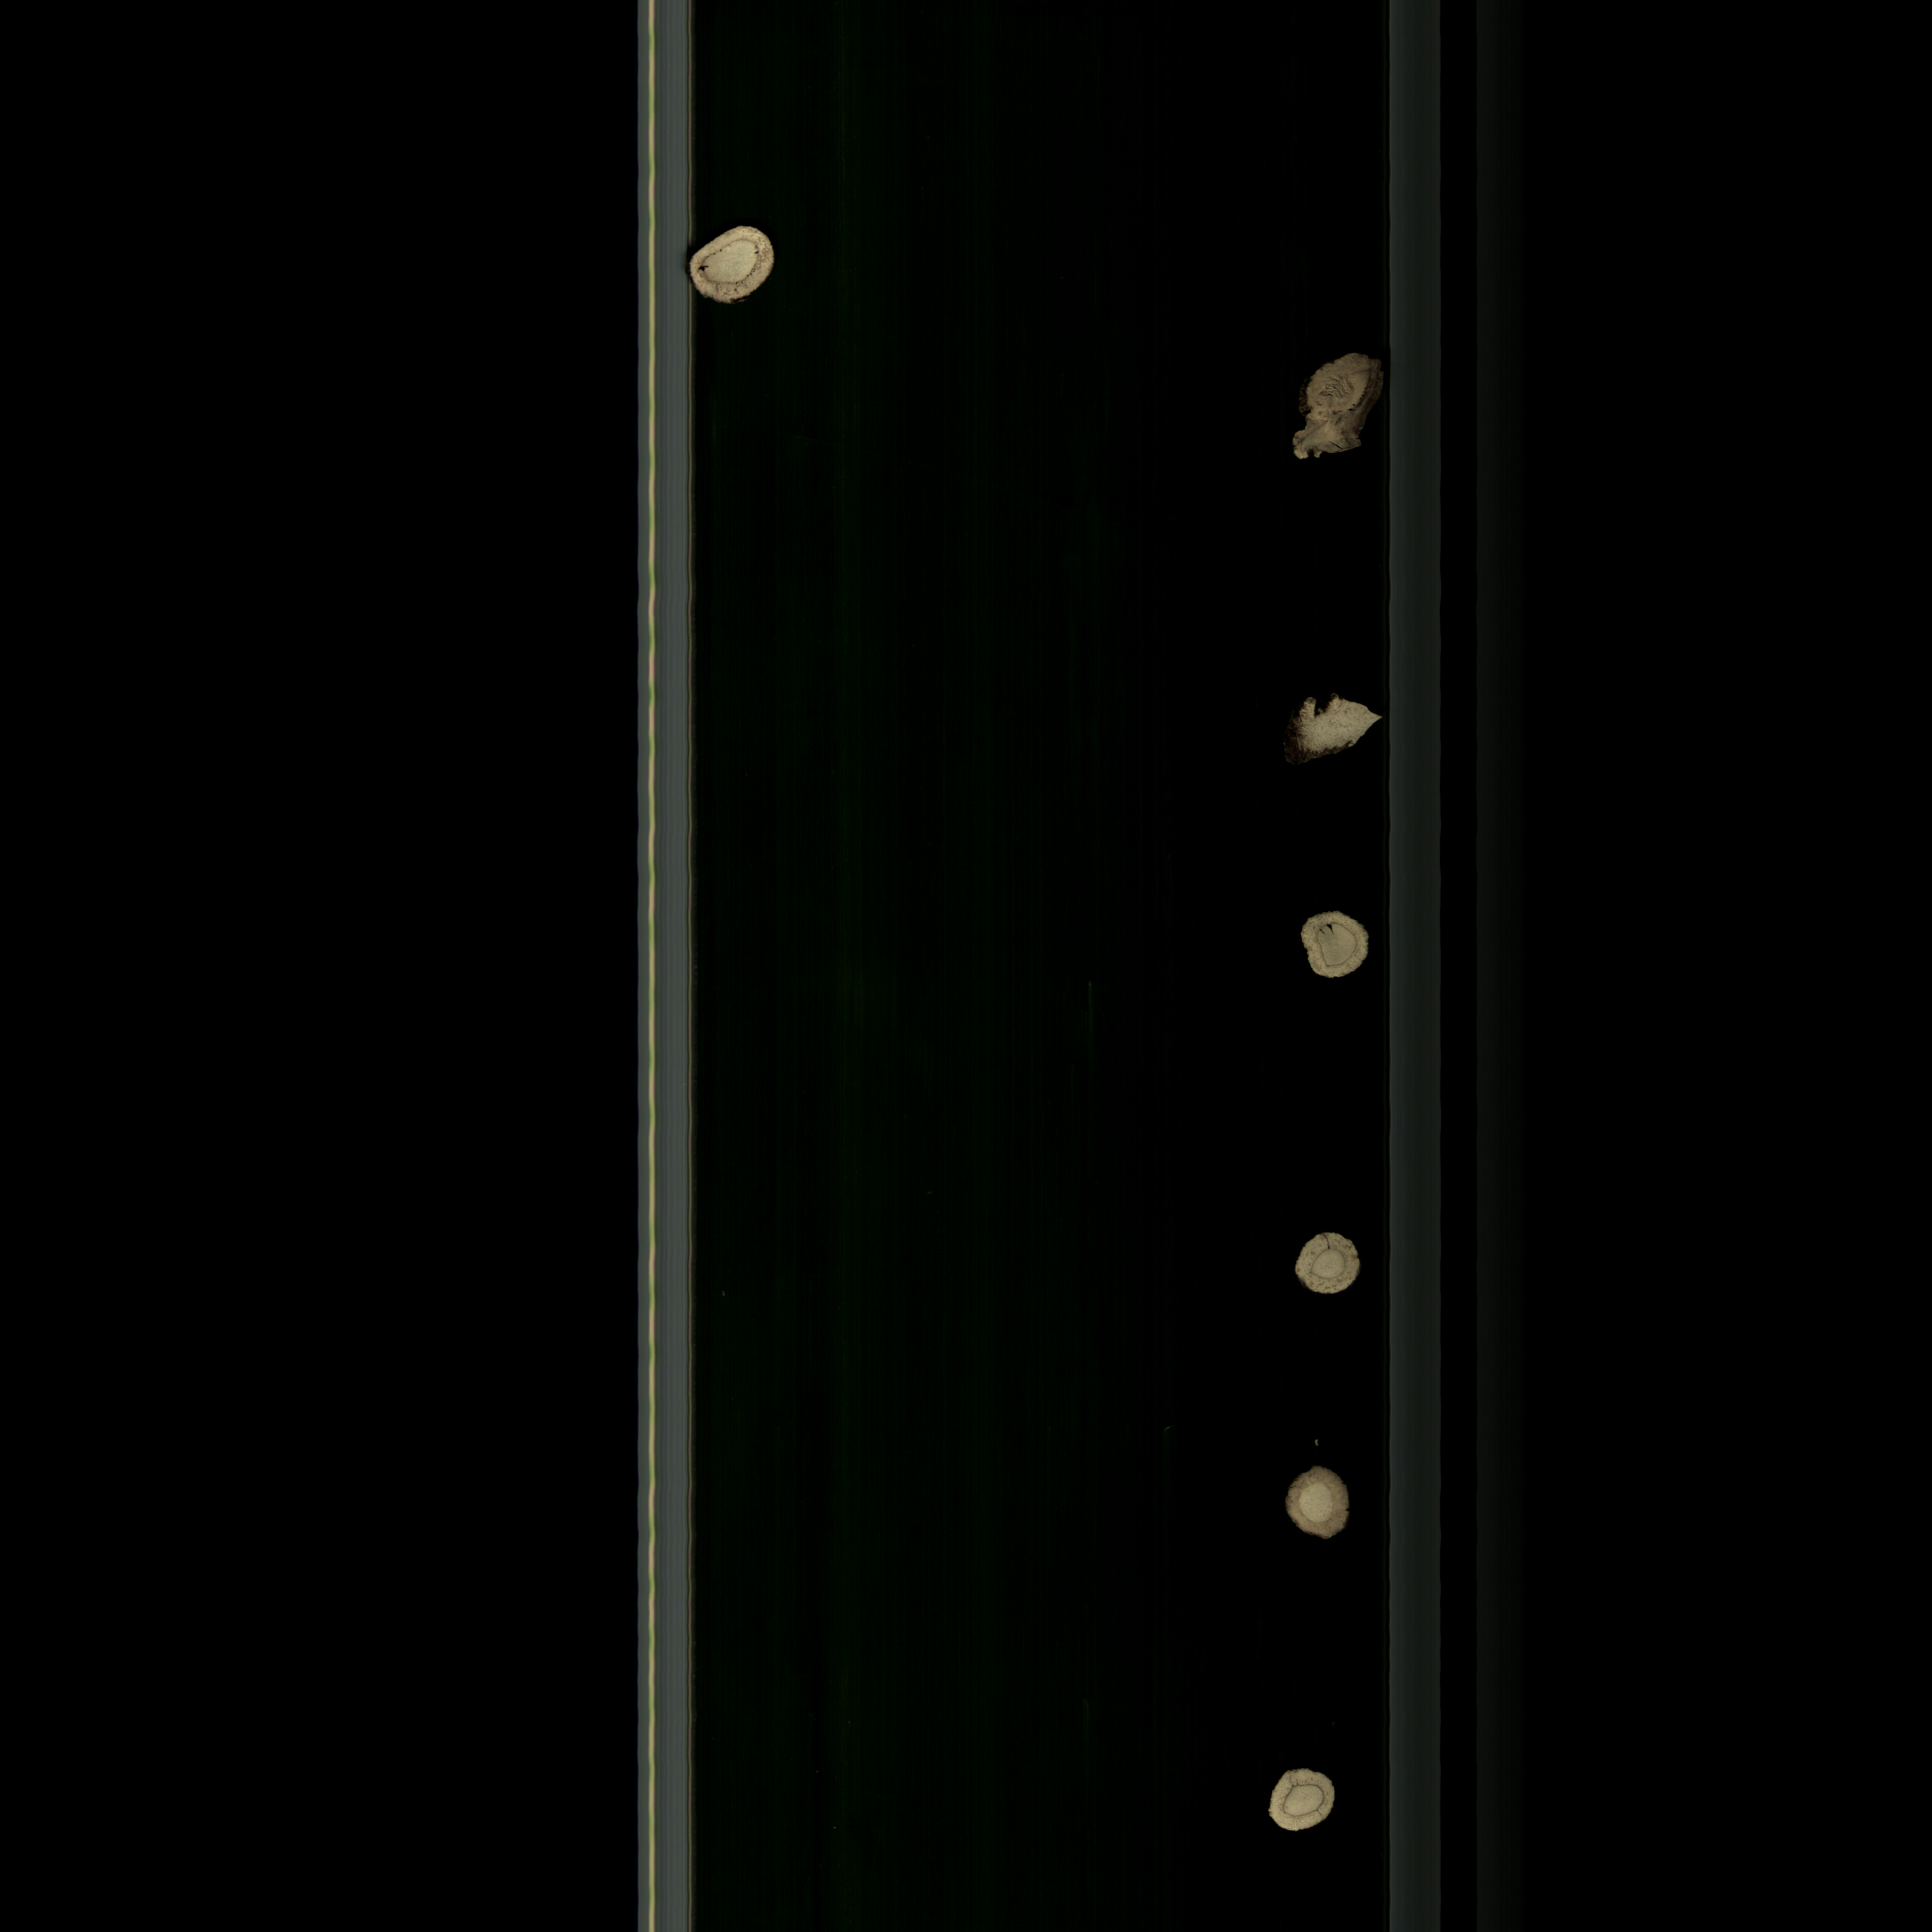debris: (1284, 685, 1384, 770)
hole: (685, 225, 778, 326), (1290, 902, 1380, 996)
moldy: (1297, 345, 1378, 479)
